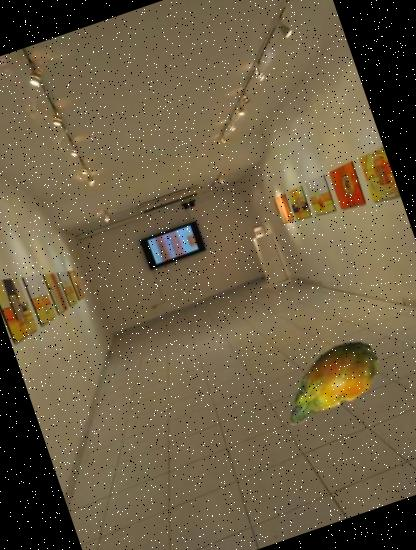Cactus: (260, 312, 398, 452)
